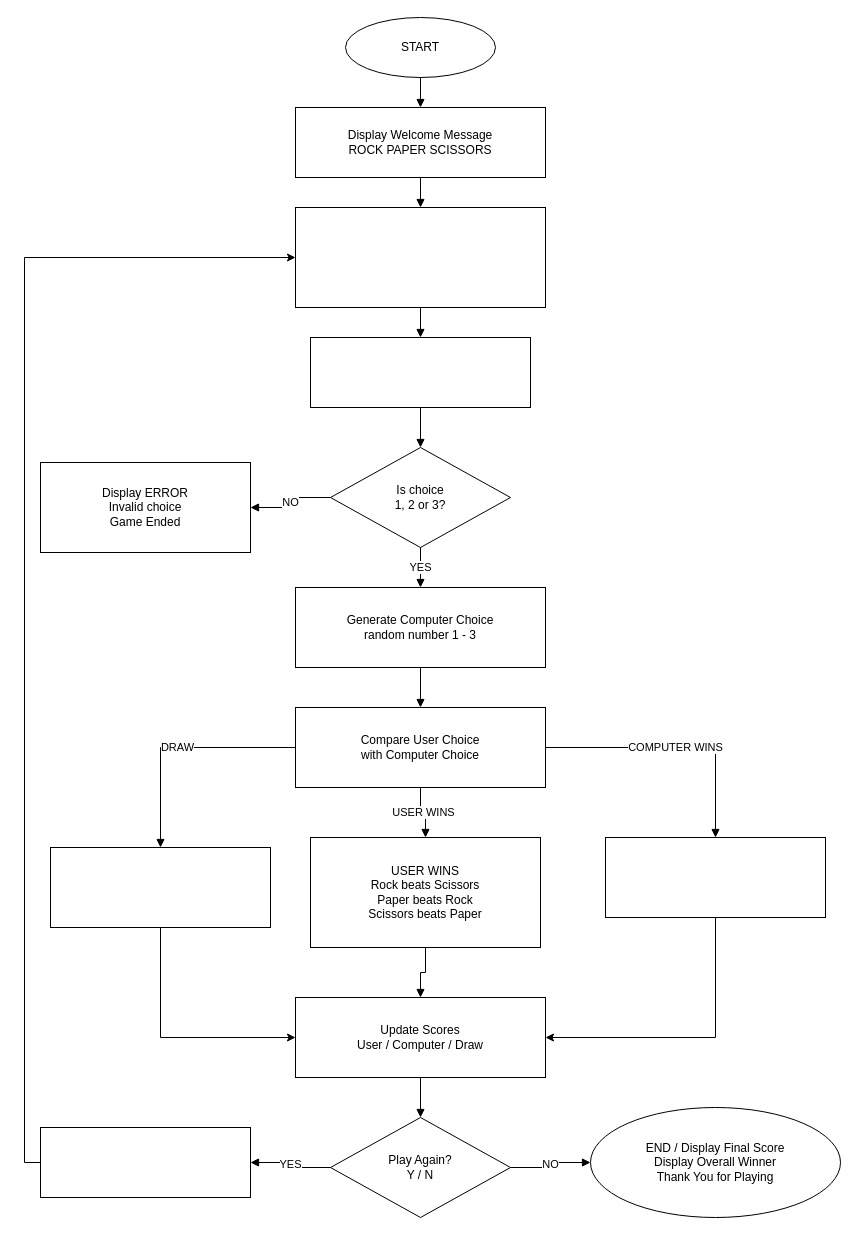
The diagram is 858 pixels wide and 1235 high, and some of its shapes have lost their labels. Here are the shapes that lost their labels. From the top down, the box of each, then its label:
(294, 206, 546, 308): Display Menu 1. Rock 2. Paper 3. Scissors
(310, 336, 530, 408): Enter User Choice
(50, 846, 270, 928): DRAW Both choices are the same
(604, 836, 826, 918): COMPUTER WINS Computer choice beats user choice
(40, 1126, 250, 1198): Display TRY AGAIN
